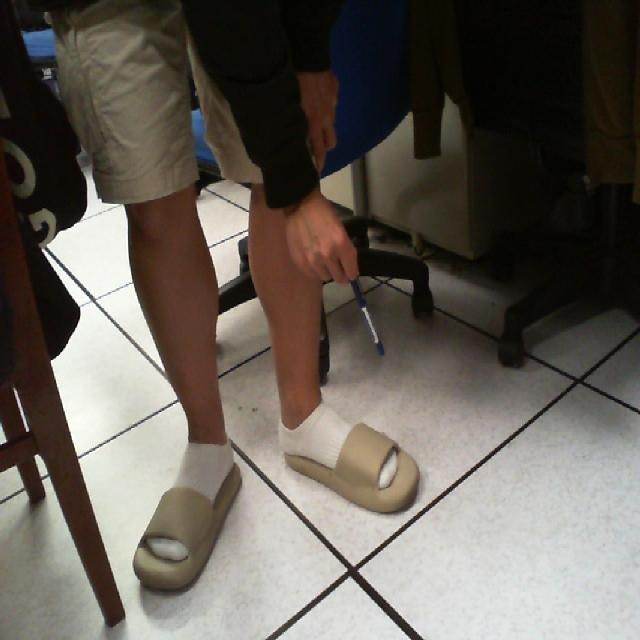Pen: (335, 243, 390, 367)
